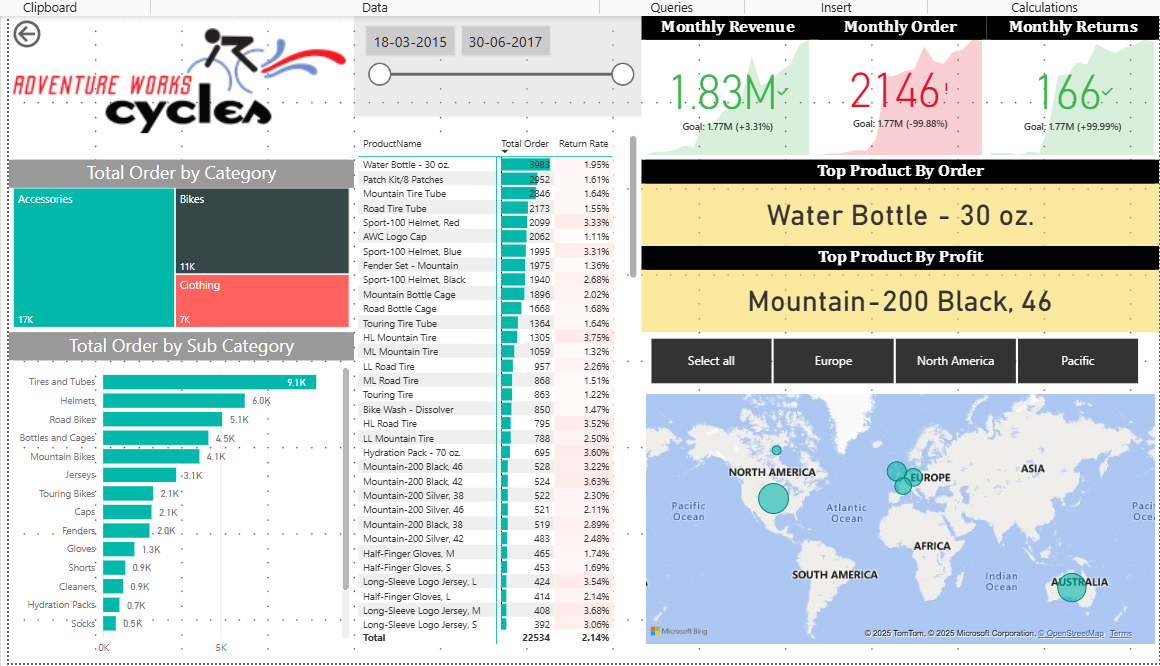

The dashboard page shown, as its layout file describes it:
{"tool":"powerbi","page":{"name":"Executive Summary","canvas":[1280,720],"ordinal":0},"visuals":[{"type":"image","box":[0,0,384,144],"z":0},{"type":"treemap","title":"Total Order by Category","fields":{"Group":["AW_Product_Category_Lookup.CategoryName"],"Values":["Sales.Total Order"]},"box":[0,160,384,192],"z":1000},{"type":"barChart","title":"Total Order by Sub Category","fields":{"Category":["AW_Product_Subcategory_Lookup.SubcategoryName"],"Y":["Sales.Total Order"]},"box":[0,352,384,368],"z":2000},{"type":"slicer","fields":{"Values":["AW_Calendar_Lookup.Date"]},"box":[384,0,320,112],"z":3000},{"type":"pivotTable","fields":{"Rows":["AW_Product_Category_Lookup.CategoryName","AW_Product_Subcategory_Lookup.SubcategoryName","AW_Product_Lookup.ProductName"],"Values":["Sales.Total Order","Returns.Return Rate"]},"box":[384,128,320,576],"z":4000},{"type":"kpi","title":"Monthly Revenue","fields":{"TrendLine":["AW_Calendar_Lookup.Start of Month"],"Goal":["AW_Calendar_Lookup.Prev Month Revenue"],"Indicator":["Sales.Total Revenue"]},"box":[704,0,192,160],"z":5000},{"type":"kpi","title":"Monthly Order","fields":{"TrendLine":["AW_Calendar_Lookup.Start of Month"],"Goal":["AW_Calendar_Lookup.Prev Month Revenue"],"Indicator":["Sales.Total Order"]},"box":[896,0,192,160],"z":6000},{"type":"kpi","title":"Monthly Returns","fields":{"TrendLine":["AW_Calendar_Lookup.Start of Month"],"Goal":["AW_Calendar_Lookup.Prev Month Revenue"],"Indicator":["Returns.Total Return"]},"box":[1088,0,192,160],"z":7000},{"type":"card","title":"Top Product By Order","fields":{"Values":["Min(AW_Product_Lookup.ProductName)"]},"box":[704,160,576,96],"z":8000},{"type":"card","title":"Top Product By Profit","fields":{"Values":["Min(AW_Product_Lookup.ProductName)"]},"box":[704,256,576,96],"z":9000},{"type":"map","fields":{"Category":["AW_Territory_lookup.Country"],"Size":["Sales.Total Profit"]},"box":[704,416,576,288],"z":10000},{"type":"actionButton","box":[0,0,100,40],"z":11000},{"type":"slicer","fields":{"Values":["AW_Territory_lookup.Continent"]},"box":[688,352,592,64],"z":12000}]}

Visuals, with their boxes on the page's 1280x720 design canvas (x1, y1, x2, y2). These are canvas units, not pixel positions in the 1160x666 screenshot, which may show the page scaled, cropped or inside an application window:
image: (0,0,384,144)
"Total Order by Category" treemap: (0,160,384,352)
"Total Order by Sub Category" barChart: (0,352,384,720)
slicer - AW_Calendar_Lookup.Date: (384,0,704,112)
pivotTable - AW_Product_Category_Lookup.CategoryName x AW_Product_Subcategory_Lookup.SubcategoryName: (384,128,704,704)
"Monthly Revenue" kpi: (704,0,896,160)
"Monthly Order" kpi: (896,0,1088,160)
"Monthly Returns" kpi: (1088,0,1280,160)
"Top Product By Order" card: (704,160,1280,256)
"Top Product By Profit" card: (704,256,1280,352)
map - AW_Territory_lookup.Country x Sales.Total Profit: (704,416,1280,704)
actionButton: (0,0,100,40)
slicer - AW_Territory_lookup.Continent: (688,352,1280,416)
